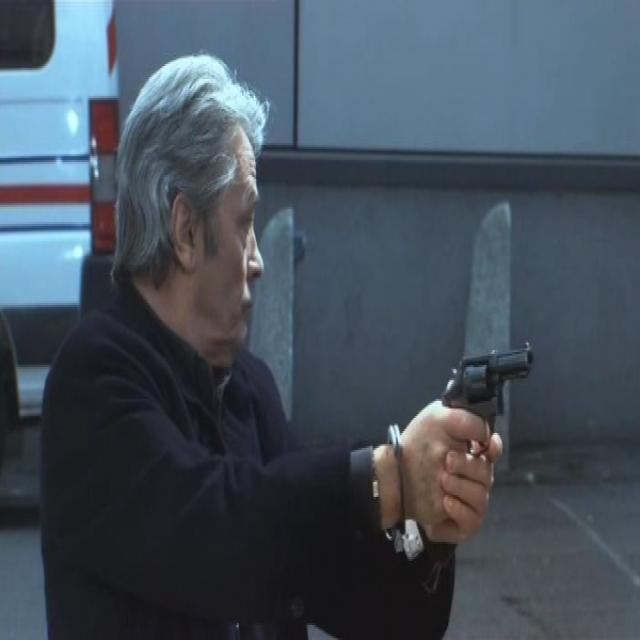weapons: (430, 303, 540, 511)
